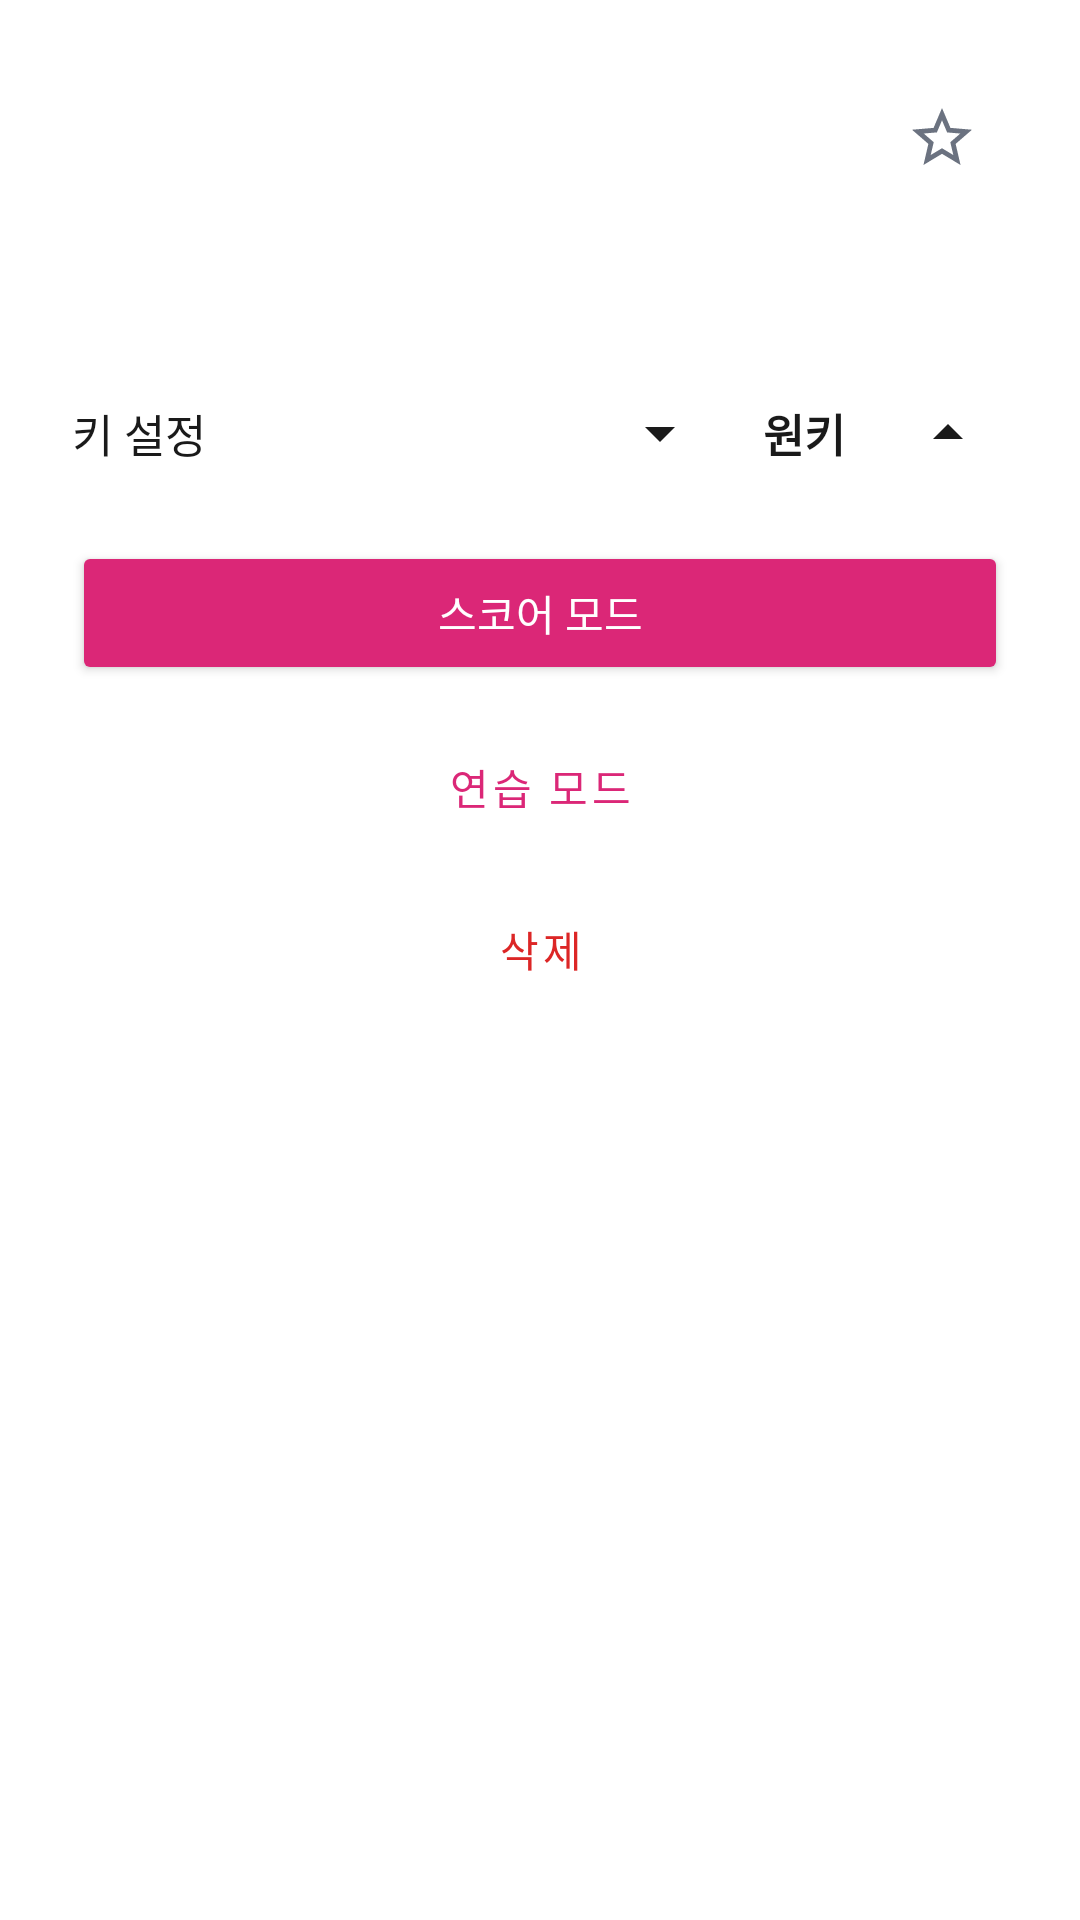

Point at icon controls on the screen. Image size 1080*1920, points as point (x, y).
즐겨찾기: point (942, 136)
키 내림: point (660, 434)
키 올림: point (948, 431)
